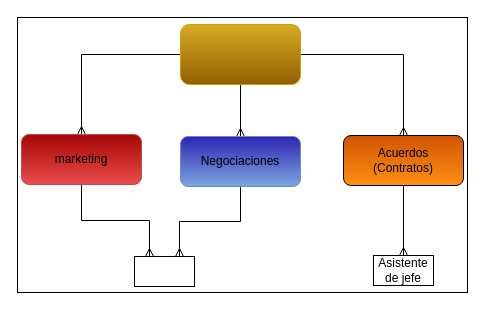
Some shapes in this 485 by 310 pixel diagram are drawn without their labels. Each missing label, with the box of its shape:
Departamento de Ventas: (180, 24, 300, 84)
Jefe: (134, 256, 194, 286)
